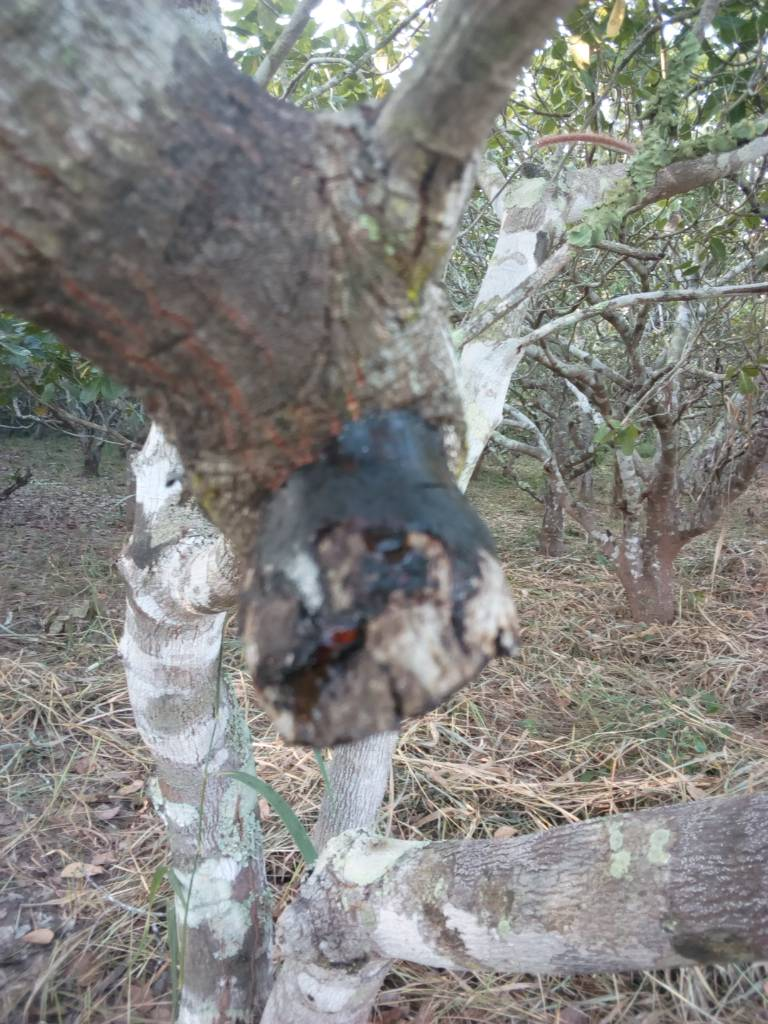Gommose: (244, 522, 507, 747)
